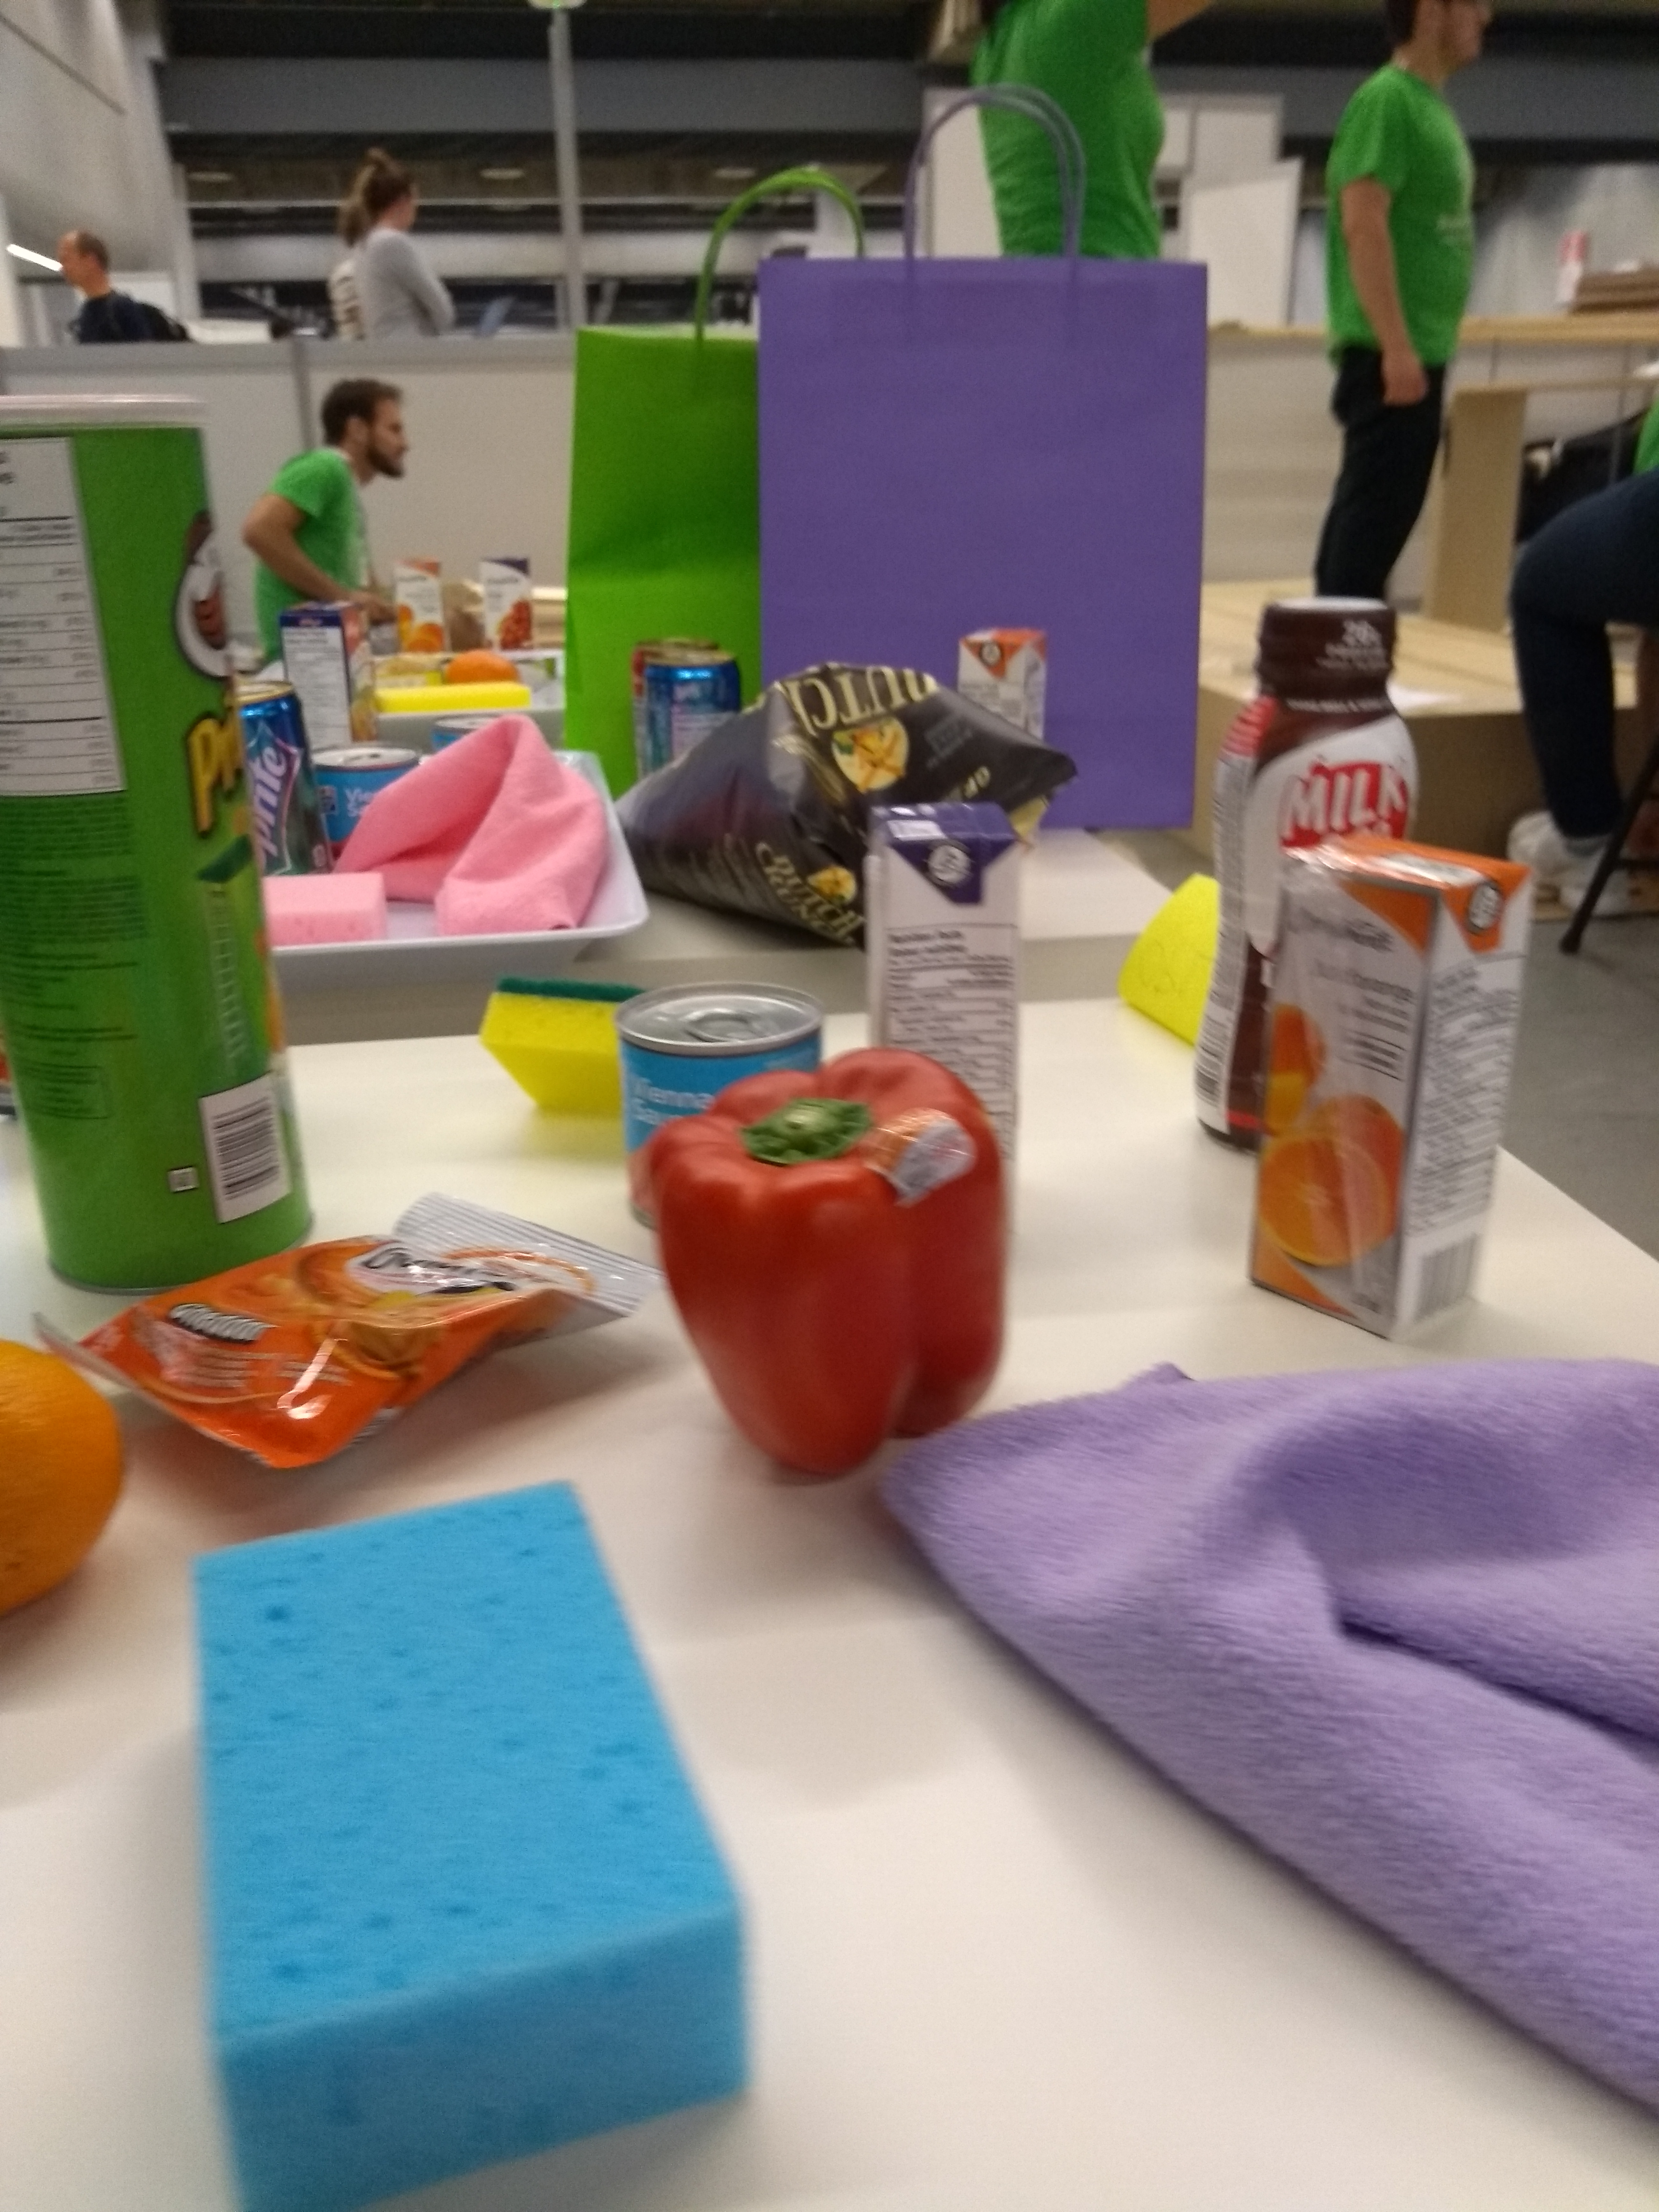chocolate_drink: (1201, 580, 1398, 1143)
crackers: (110, 1197, 645, 1479)
grape_juice: (859, 799, 1046, 1132)
orange: (0, 1348, 132, 1606)
orange_juice: (1248, 822, 1540, 1343)
paprika: (666, 1054, 1019, 1484)
potato_chips: (622, 648, 1073, 934)
pringles: (0, 376, 319, 1294)
sausages: (615, 984, 817, 1113)
scrubby: (471, 967, 652, 1115)
sponge_opl: (146, 1461, 755, 2195)
sprite: (232, 676, 340, 871)
